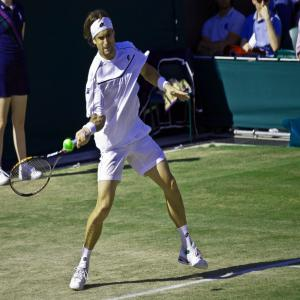TennisBall: (65, 140, 75, 151)
